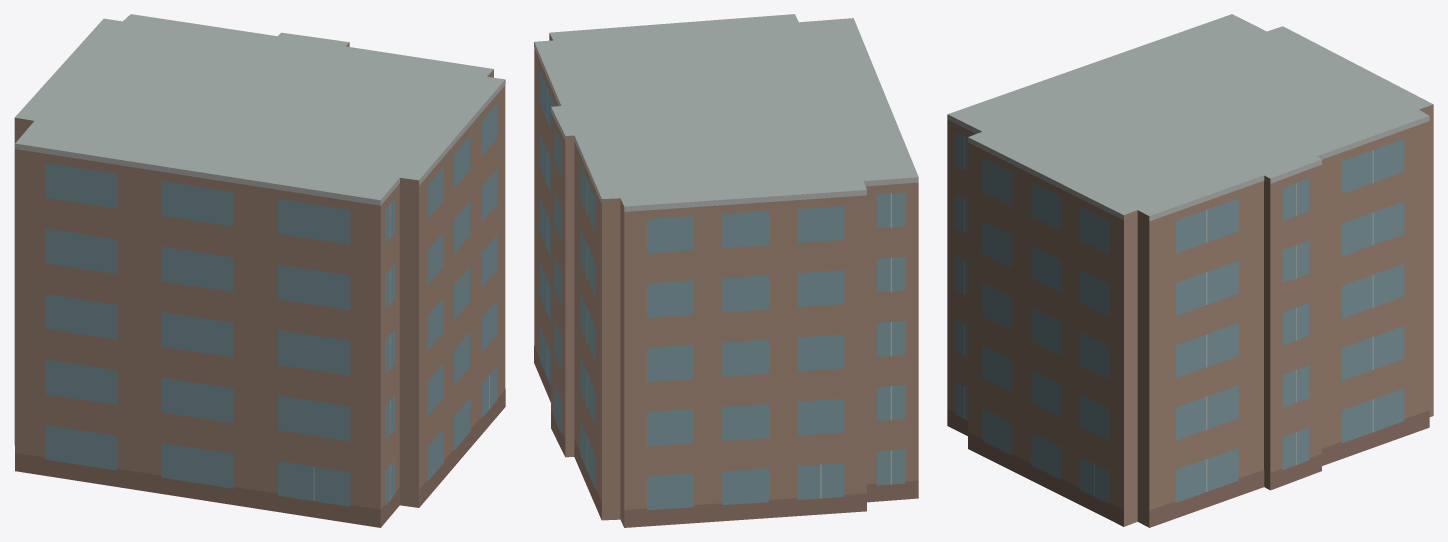
Rendered from survey-upis-32863013.glb.
3 renders of one model, left to right at view 1: azimuth 30°, elevation 25°; view 2: azimuth 150°, elevation 25°; view 3: azimuth 270°, elevation 25°, orthographic. The views are drawn at different scales.
Parts seen in each view (by area): view 1: survey-upis-32863013.tmp; view 2: survey-upis-32863013.tmp; view 3: survey-upis-32863013.tmp.
Boxes of the visible parts, left/top/right/bottom form: survey-upis-32863013.tmp: left=14, top=14, right=505, bottom=527; survey-upis-32863013.tmp: left=534, top=14, right=918, bottom=527; survey-upis-32863013.tmp: left=947, top=14, right=1433, bottom=527.
Size of the model in its own units: 20.32 by 14.6 by 20.64.
